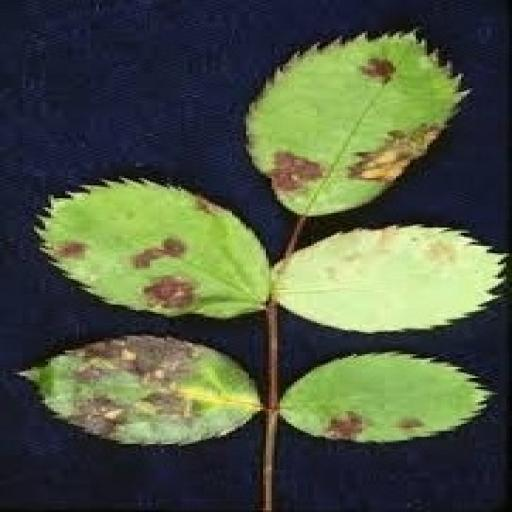downy_mildew: (247, 34, 463, 216), (37, 180, 268, 317), (23, 336, 260, 444), (275, 226, 503, 332), (281, 353, 489, 442)
